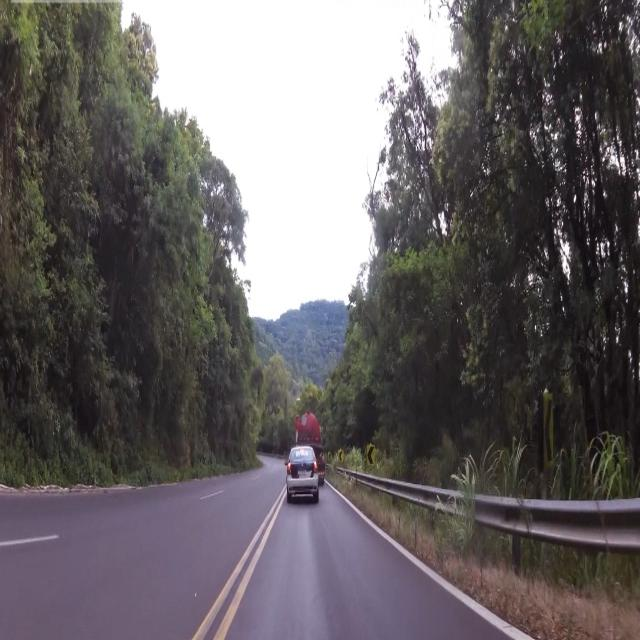Del: (542, 393, 564, 461), (363, 441, 376, 469)
